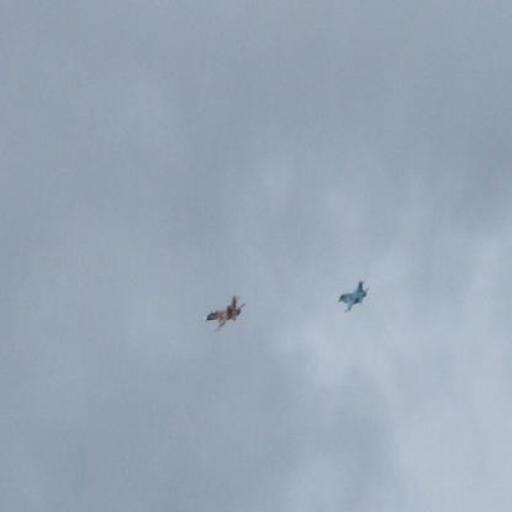aircraft: (203, 293, 249, 332), (334, 276, 376, 315)
